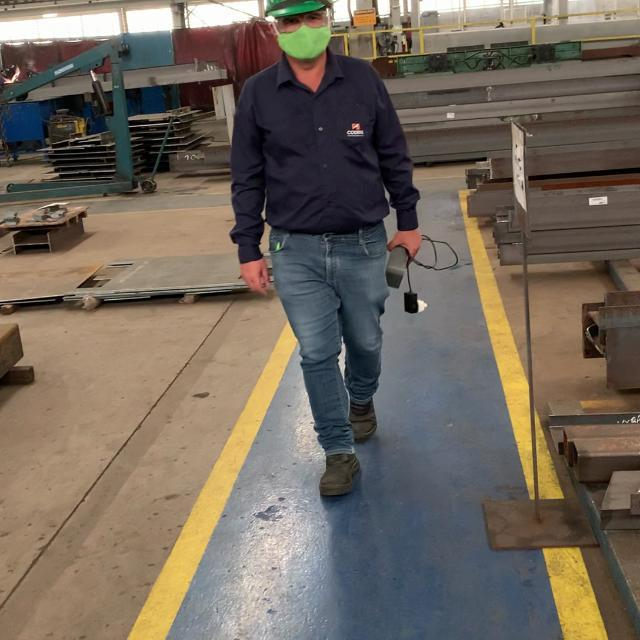eye-glass: (275, 17, 328, 30)
helmet: (259, 1, 329, 15)
mask: (276, 26, 334, 57)
safety-shoe: (240, 3, 426, 500), (319, 450, 361, 497), (349, 400, 378, 442)
